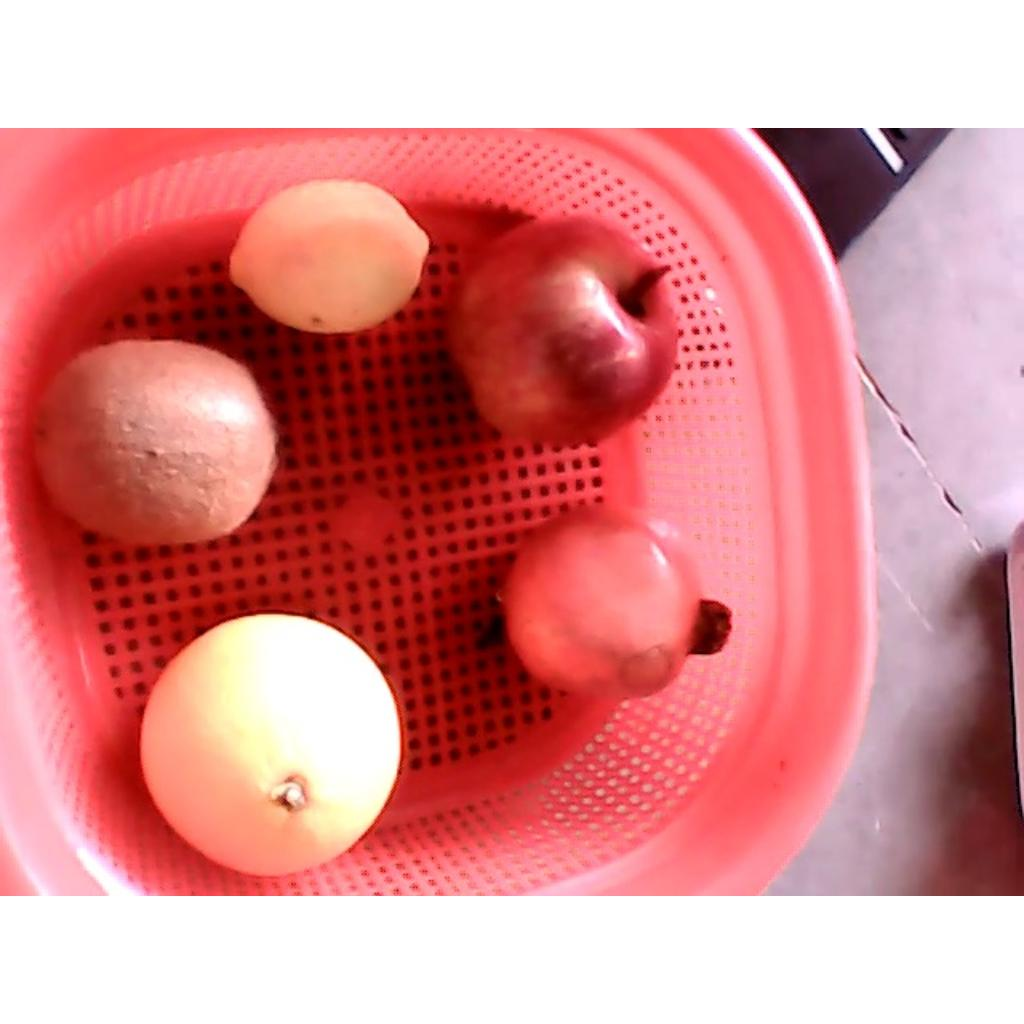apple: (447, 214, 679, 447)
kiwi: (28, 339, 277, 545)
lemon: (227, 176, 429, 334)
orange: (140, 610, 402, 878)
pomegranate: (501, 498, 733, 702)
